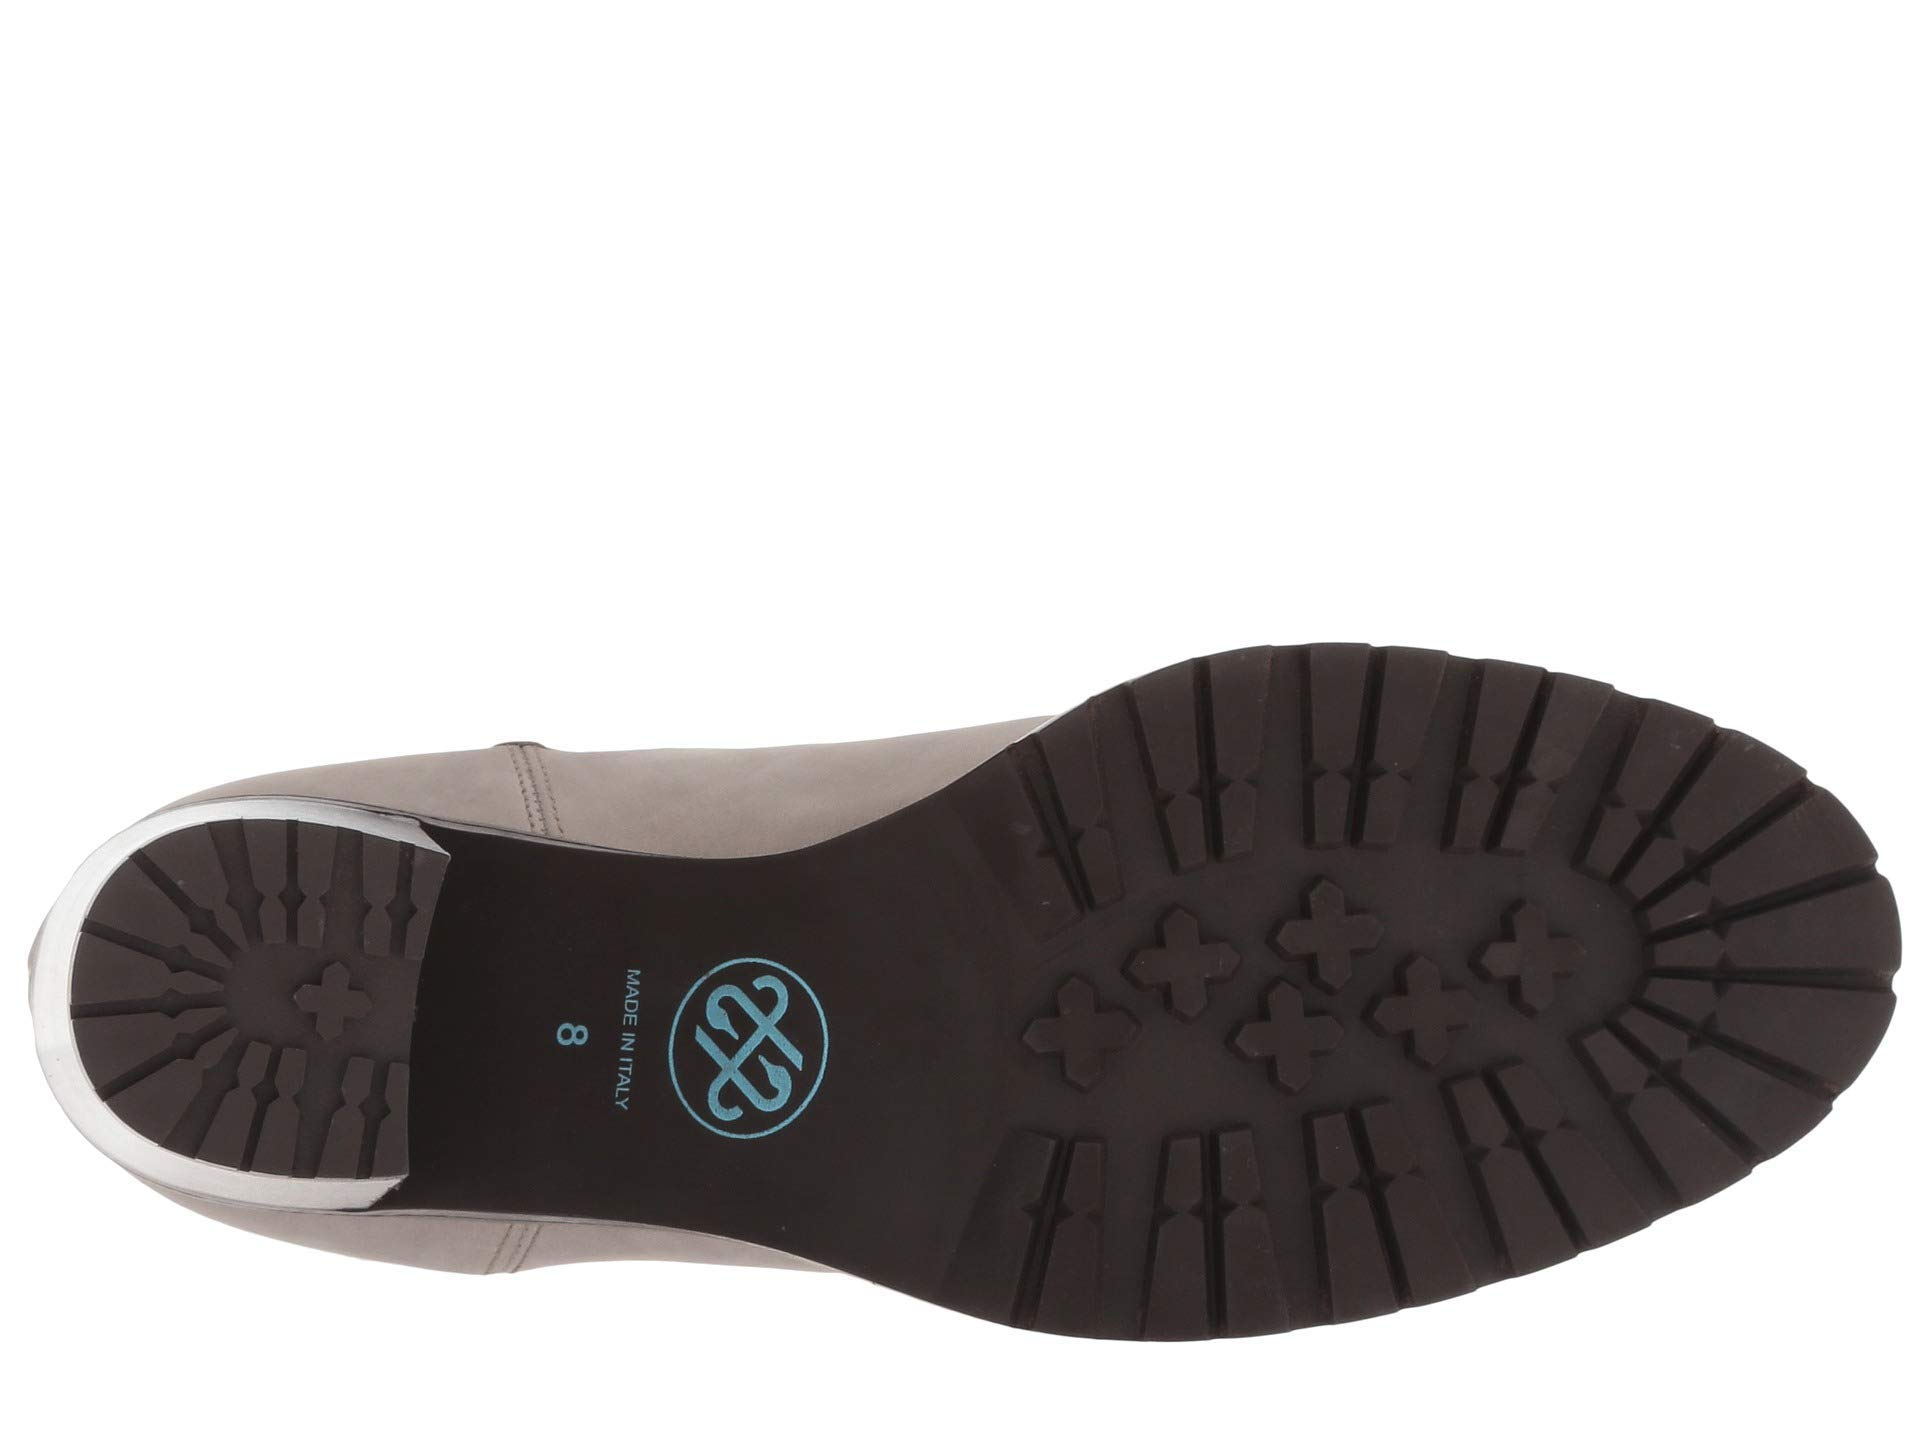bowtie: (1299, 635, 1448, 867), (236, 815, 345, 957)
exclude: (375, 824, 886, 1265)
star: (1129, 889, 1500, 1091)
